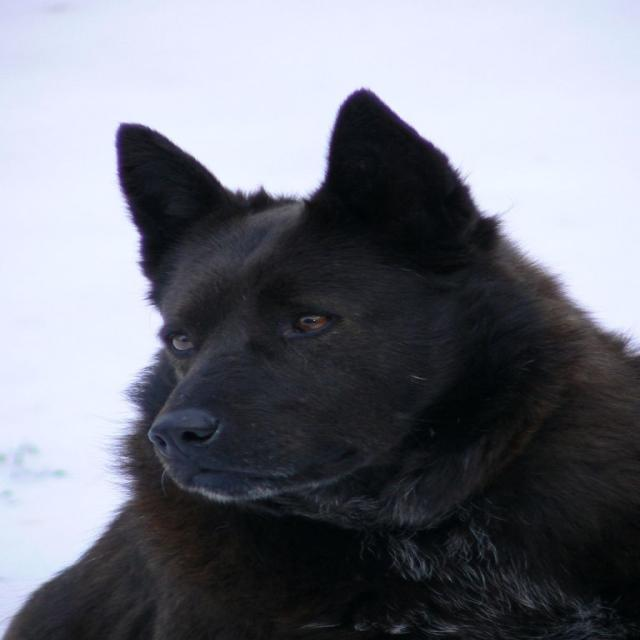Dog: (0, 85, 639, 640)
